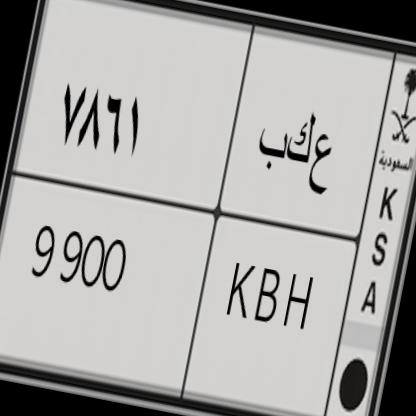english: (0, 158, 364, 414)
